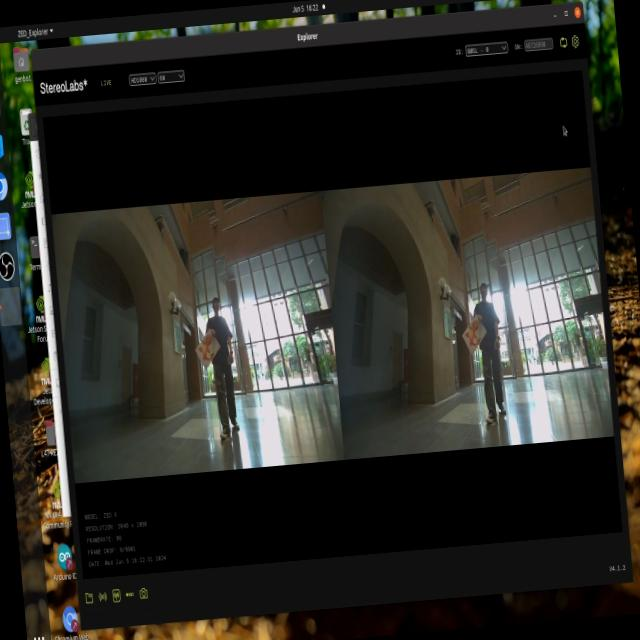red: (460, 308, 490, 352), (196, 327, 215, 363)
